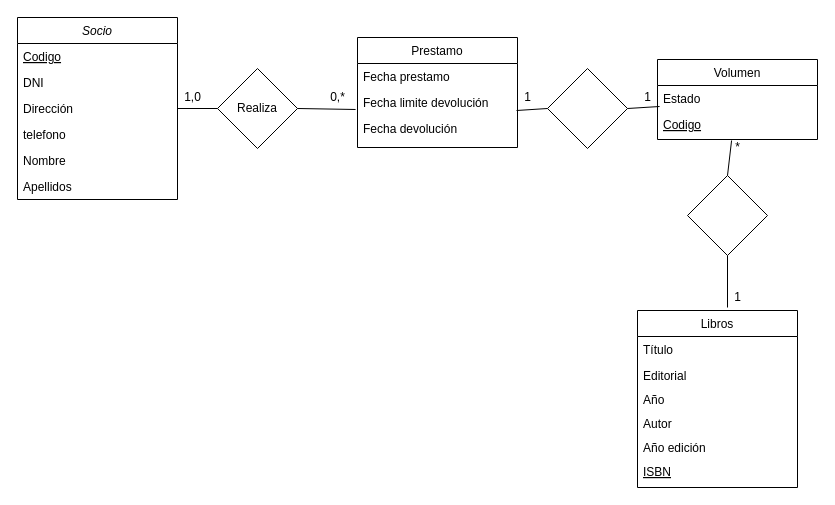
The diagram is 835 pixels wide and 505 high, and some of its shapes have lost their labels. The centre of each missing label's shape, as x and y in pixels:
"Es prestado" belongs at pixel 587 108.
"Tiene" belongs at pixel 727 215.
